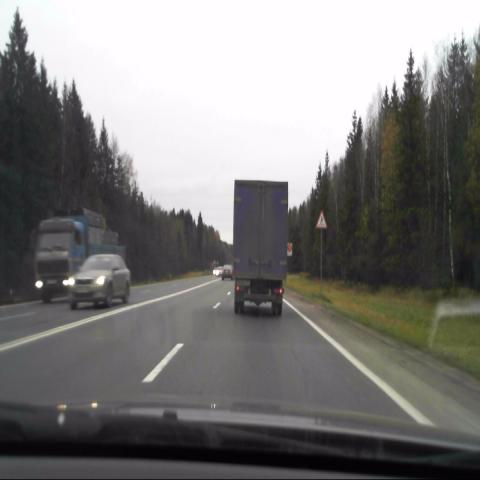1_22: (315, 210, 327, 229)
